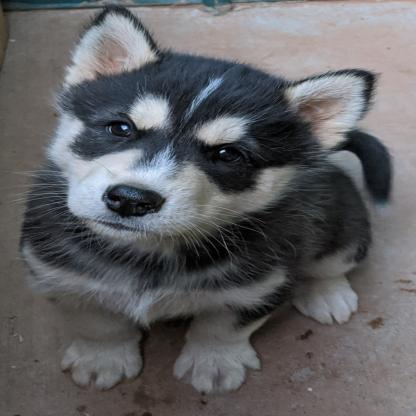dog: (25, 12, 391, 391)
